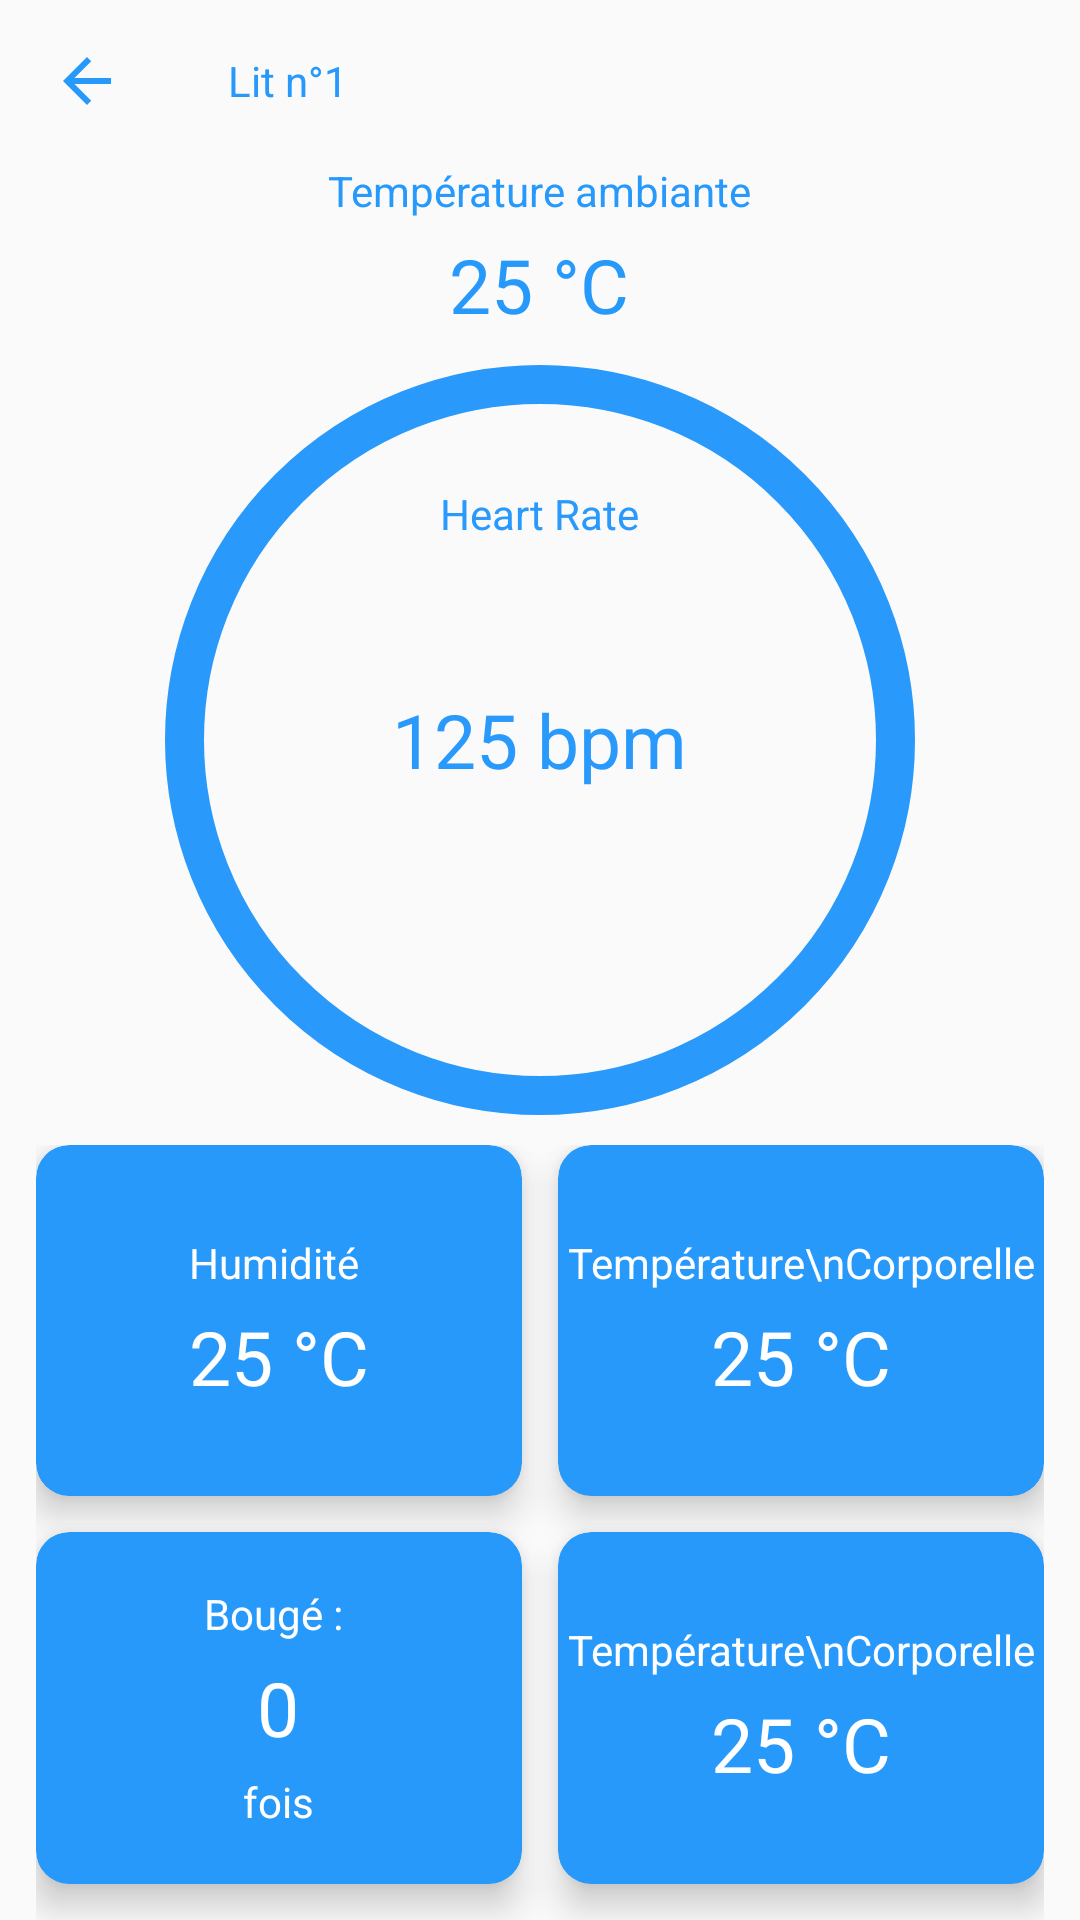

Icons on this 1080x1920 Android screen, each with the point to tap as point (x, y):
arrow back: point (87, 81)
